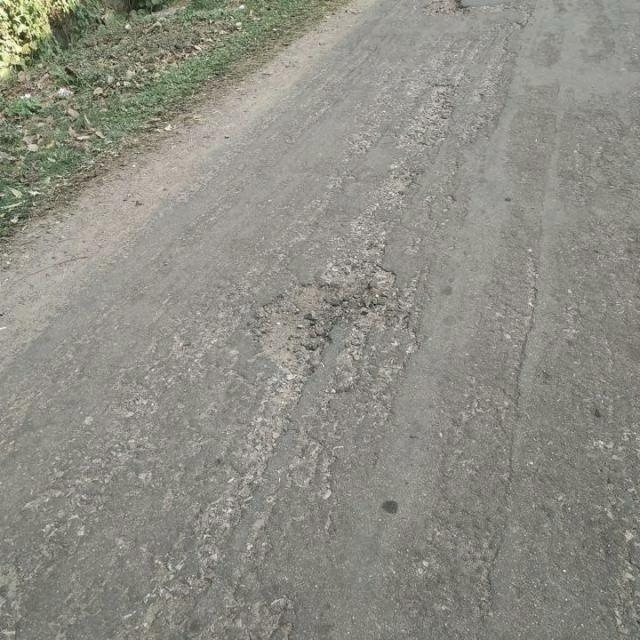Pothole: (253, 279, 350, 380)
